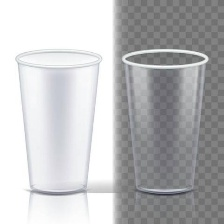glass: (4, 45, 107, 200), (116, 44, 214, 199)
